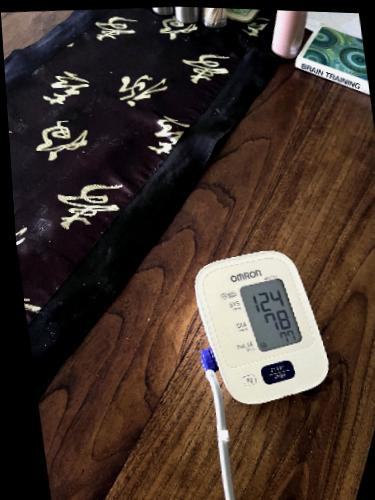bpm: (237, 273, 303, 354)
